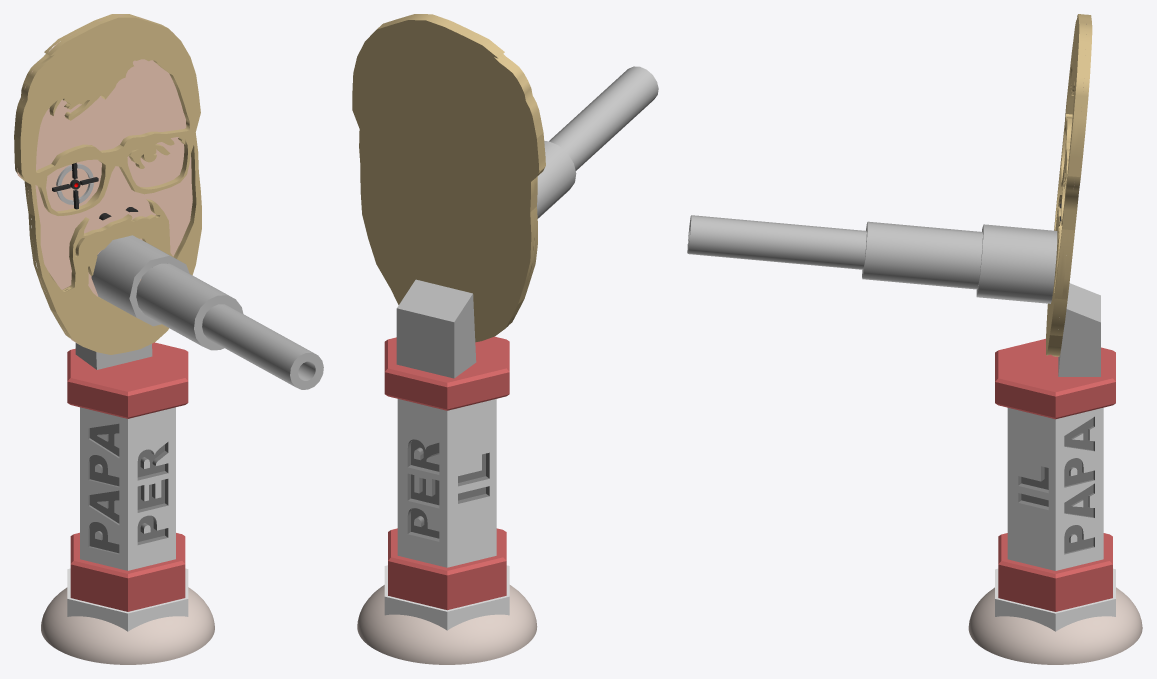
File: torretta_cesare.glb
The picture shows the model from 3 angles, left to right: view 1: azimuth 30°, elevation 25°; view 2: azimuth 150°, elevation 25°; view 3: azimuth 270°, elevation 25°; orthographic projection. The views are drawn at different scales.
Parts seen in each view (by area): view 1: Cannone, Base; view 2: Cannone, Base; view 3: Base, Cannone.
Part boxes in pixels (x1,y1,x2,y2): Cannone: (14,14,323,389); Base: (41,342,214,664); Cannone: (352,14,658,378); Base: (357,336,537,664); Base: (968,338,1142,664); Cannone: (687,14,1100,376).
Bounding box in the file's own units: 6.66 × 21.18 × 14.55.
